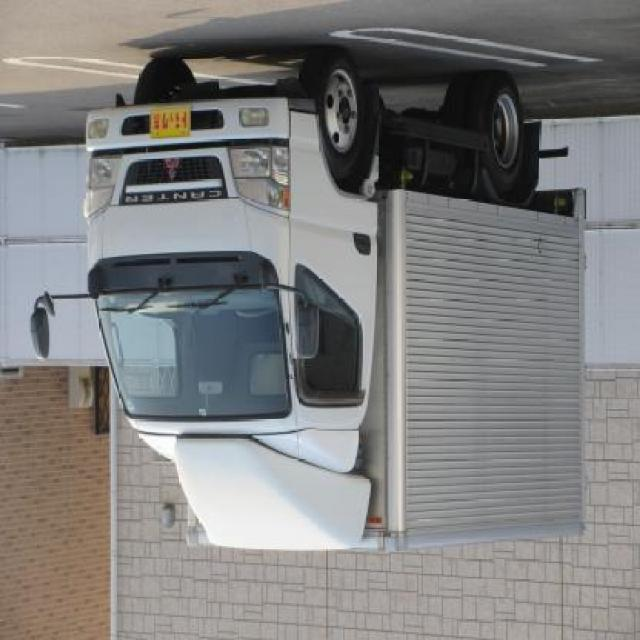truck: (34, 56, 597, 557)
